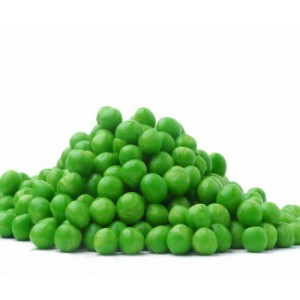green pea_brain food: (81, 147, 179, 217)
